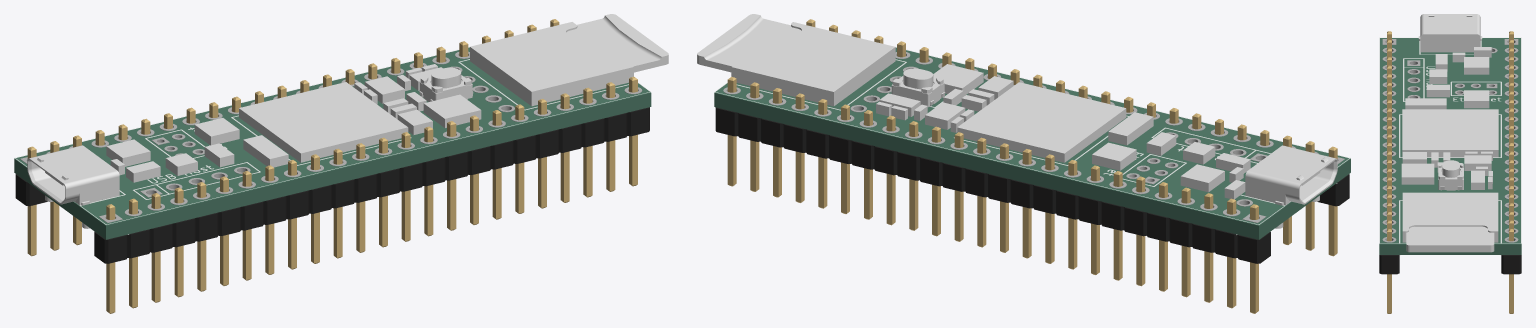
File: teensy41-reference.glb
3 renders of one model, left to right at view 1: azimuth 30°, elevation 25°; view 2: azimuth 150°, elevation 25°; view 3: azimuth 270°, elevation 25°, orthographic. The views are drawn at different scales.
Visible parts, largest first — view 1: Teensy41, J2, =>[0:1:1:7], J1, =>[0:1:1:4], =>[0:1:1:5]; view 2: Teensy41, J1, =>[0:1:1:7], J2, =>[0:1:1:4], =>[0:1:1:5]; view 3: Teensy41, =>[0:1:1:7], =>[0:1:1:4], J1, J2, =>[0:1:1:5].
Boxes of the visible parts, bbox=[...] form: Teensy41: bbox=[27, 14, 668, 228]; J2: bbox=[94, 76, 649, 313]; =>[0:1:1:7]: bbox=[14, 47, 651, 239]; J1: bbox=[15, 19, 559, 256]; =>[0:1:1:4]: bbox=[20, 51, 642, 222]; =>[0:1:1:5]: bbox=[14, 29, 650, 224]; Teensy41: bbox=[697, 14, 1337, 228]; J1: bbox=[715, 76, 1270, 313]; =>[0:1:1:7]: bbox=[714, 47, 1350, 239]; J2: bbox=[806, 19, 1349, 256]; =>[0:1:1:4]: bbox=[723, 52, 1344, 223]; =>[0:1:1:5]: bbox=[714, 28, 1350, 224]; Teensy41: bbox=[1401, 14, 1498, 252]; =>[0:1:1:7]: bbox=[1379, 38, 1521, 254]; =>[0:1:1:4]: bbox=[1382, 39, 1518, 242]; J1: bbox=[1501, 31, 1521, 313]; J2: bbox=[1379, 31, 1399, 313]; =>[0:1:1:5]: bbox=[1379, 37, 1521, 243].
Size of the model in its own units: 0.0666 by 0.0129 by 0.0178.
